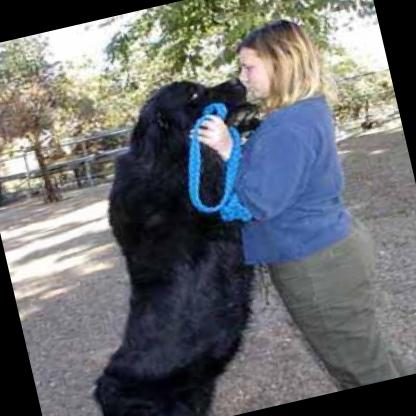Newfoundland: (22, 64, 316, 416)
